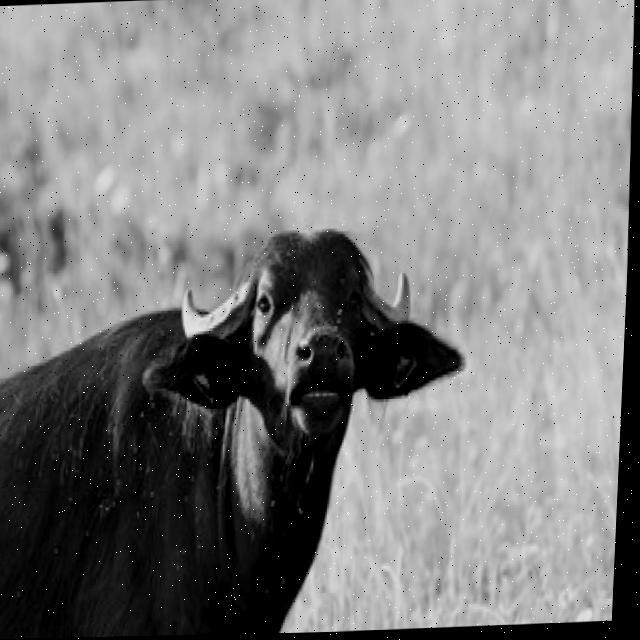Buffalo: (0, 217, 477, 640)
